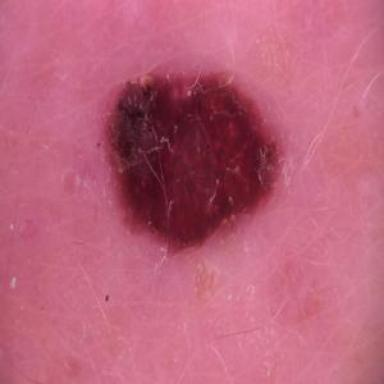Melanoma: (106, 67, 282, 252)
